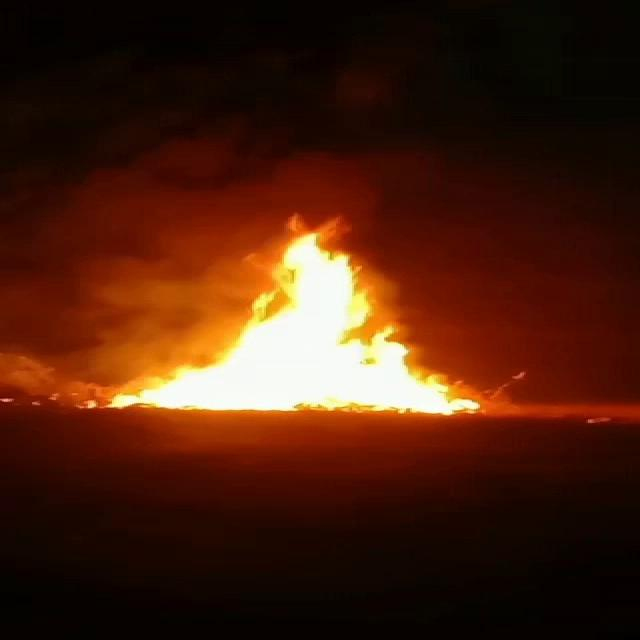Fire: (114, 232, 482, 416)
